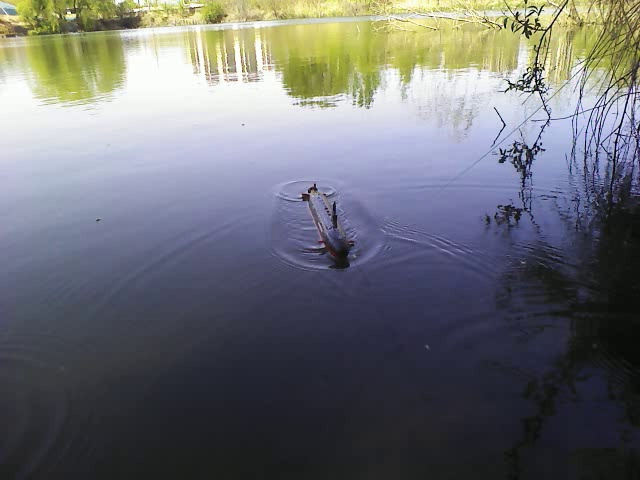submarine: (296, 181, 363, 264)
